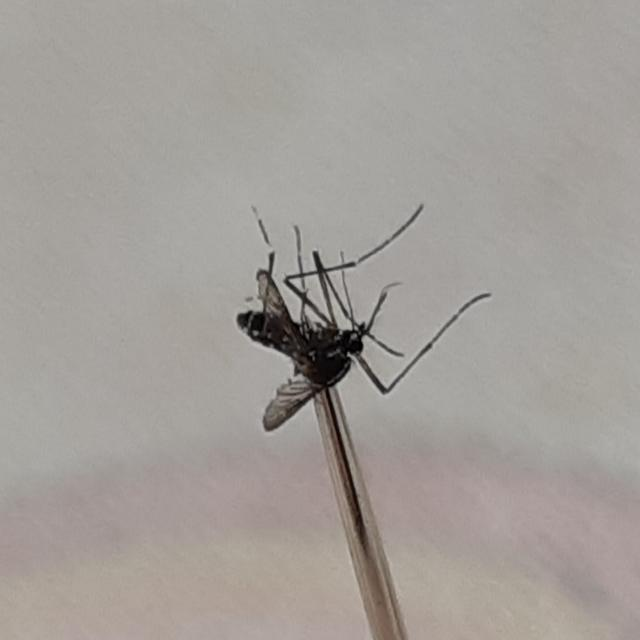albopictus: (217, 180, 488, 616)
